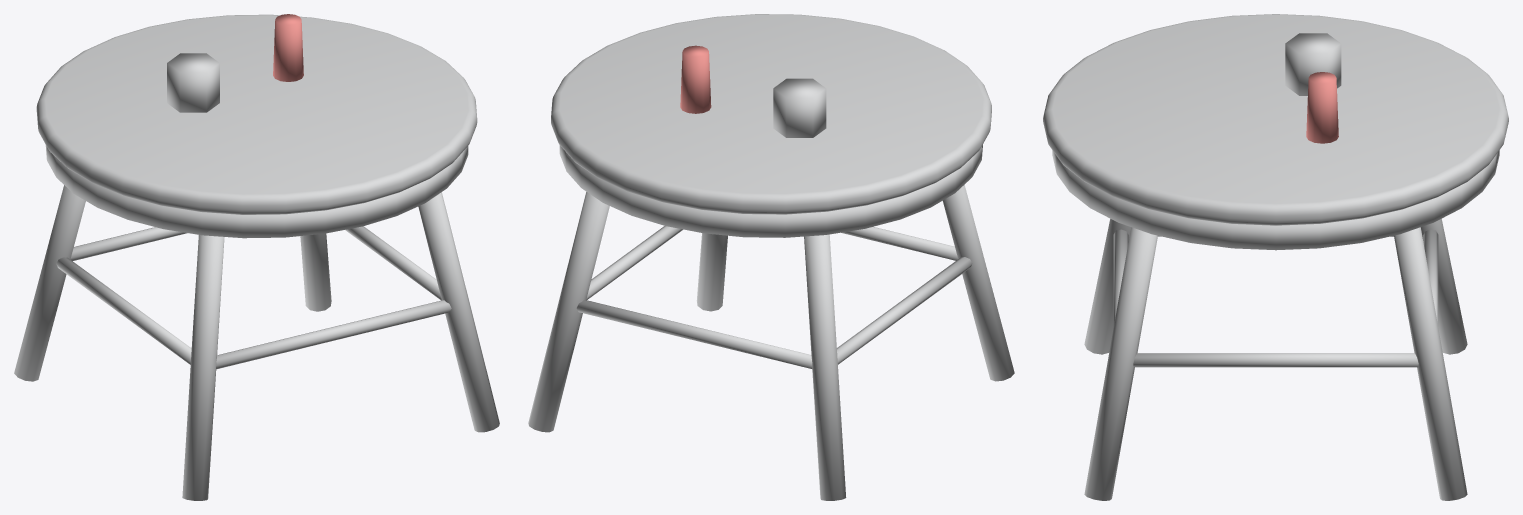
File: table_plain.glb
3 renders of one model, left to right at view 1: azimuth 30°, elevation 25°; view 2: azimuth 150°, elevation 25°; view 3: azimuth 270°, elevation 25°, orthographic. The views are drawn at different scales.
Visible parts, largest first — view 1: table_plain_top, table_plain_rim, table_plain_leg2, table_plain_leg3, table_plain_leg1, table_plain_brace2, table_plain_napkin, table_plain_brace1, table_plain_leg0, table_plain_ketchup, table_plain_brace3, table_plain_brace0; view 2: table_plain_top, table_plain_rim, table_plain_leg1, table_plain_leg0, table_plain_leg2, table_plain_brace0, table_plain_napkin, table_plain_brace1, table_plain_leg3, table_plain_ketchup, table_plain_brace3, table_plain_brace2; view 3: table_plain_top, table_plain_rim, table_plain_leg0, table_plain_leg3, table_plain_brace3, table_plain_napkin, table_plain_leg1, table_plain_leg2, table_plain_ketchup, table_plain_brace0, table_plain_brace2.
Part boxes in pixels (<box>): table_plain_top: <box>36,14,477,214</box>; table_plain_rim: <box>45,145,468,238</box>; table_plain_leg2: <box>182,235,224,500</box>; table_plain_leg3: <box>418,192,499,432</box>; table_plain_leg1: <box>14,185,85,381</box>; table_plain_brace2: <box>216,300,451,369</box>; table_plain_napkin: <box>167,53,219,112</box>; table_plain_brace1: <box>56,257,191,364</box>; table_plain_leg0: <box>300,233,331,311</box>; table_plain_ketchup: <box>273,14,303,81</box>; table_plain_brace3: <box>345,226,441,300</box>; table_plain_brace0: <box>70,227,187,260</box>; table_plain_top: <box>551,14,991,214</box>; table_plain_rim: <box>559,145,982,237</box>; table_plain_leg1: <box>804,234,846,500</box>; table_plain_leg0: <box>528,192,609,432</box>; table_plain_leg2: <box>943,185,1014,381</box>; table_plain_brace0: <box>576,300,812,368</box>; table_plain_napkin: <box>773,78,826,137</box>; table_plain_brace1: <box>837,257,972,364</box>; table_plain_leg3: <box>696,233,727,311</box>; table_plain_ketchup: <box>680,45,711,113</box>; table_plain_brace3: <box>586,226,682,300</box>; table_plain_brace2: <box>841,226,957,260</box>; table_plain_top: <box>1043,14,1508,225</box>; table_plain_rim: <box>1052,150,1499,250</box>; table_plain_leg0: <box>1394,227,1467,500</box>; table_plain_leg3: <box>1084,227,1157,500</box>; table_plain_brace3: <box>1133,353,1418,367</box>; table_plain_napkin: <box>1285,33,1341,95</box>; table_plain_leg1: <box>1420,219,1467,354</box>; table_plain_leg2: <box>1084,219,1131,354</box>; table_plain_ketchup: <box>1306,72,1338,143</box>; table_plain_brace0: <box>1423,229,1438,326</box>; table_plain_brace2: <box>1113,229,1128,326</box>.
Size of the model in its own units: 1 by 0.887 by 1.
